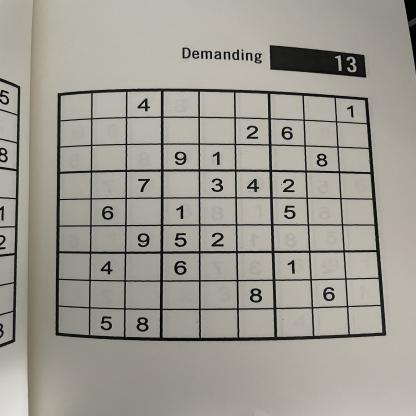sudoku: (51, 86, 390, 344)
